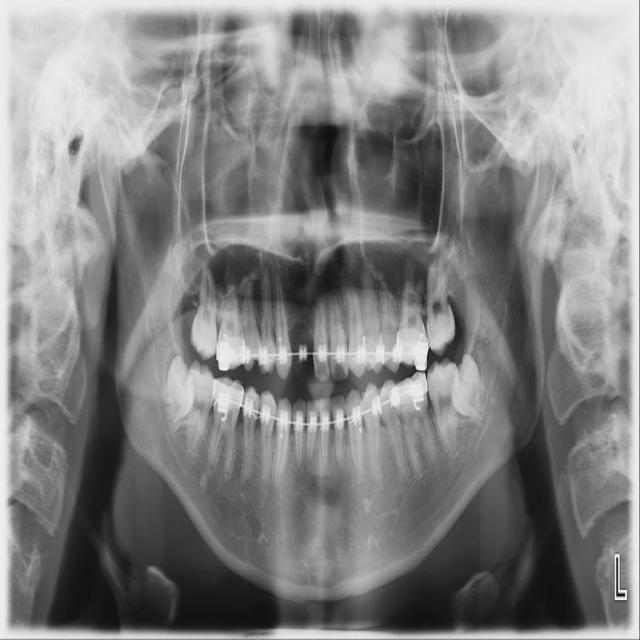73: (580, 511, 594, 529)
BioHorizons Implant: (423, 249, 456, 358)
Biomet 3i Implant: (450, 353, 486, 422)
Blue Sky Bio Implant: (424, 356, 460, 455)
Caries: (189, 255, 217, 361)
Implant: (187, 360, 216, 461)
Keystone Dental Implant: (152, 354, 207, 428)
